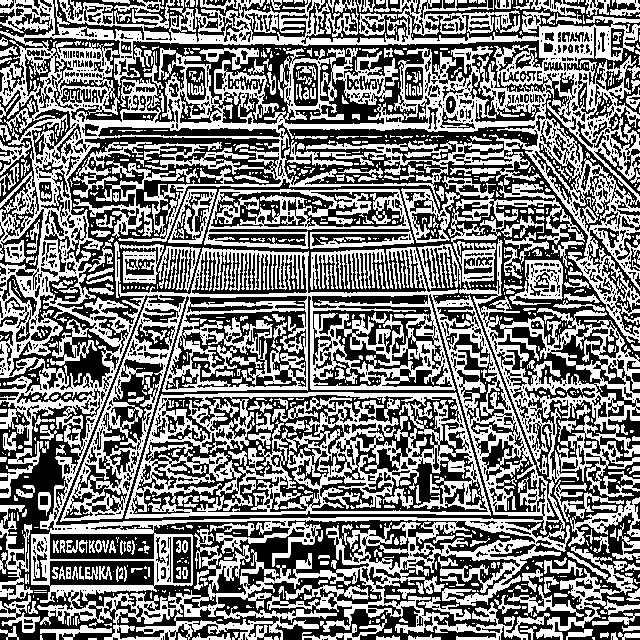left side: (57, 187, 218, 522), (399, 186, 557, 517)
player: (524, 392, 572, 542), (272, 118, 294, 189)
